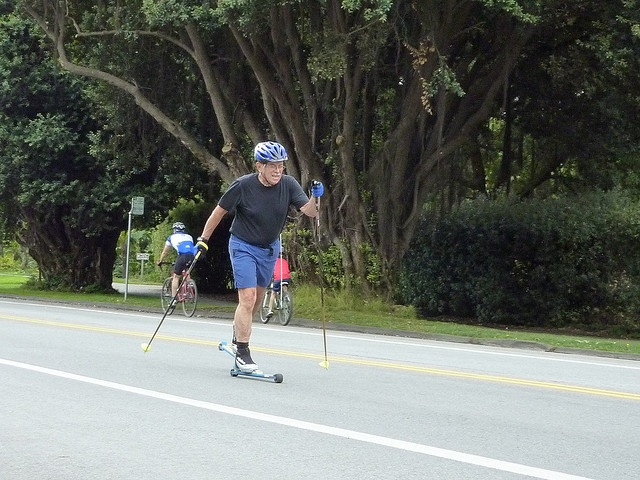non-vehicle: (160, 261, 196, 317), (259, 281, 292, 325)
